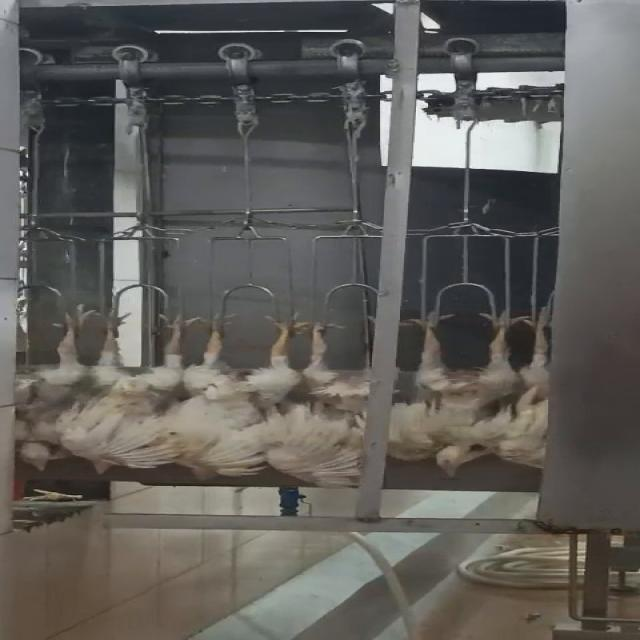chicken: (377, 296, 528, 476), (187, 304, 320, 486), (78, 304, 208, 476), (261, 310, 379, 487), (0, 304, 112, 476), (494, 298, 568, 468)
